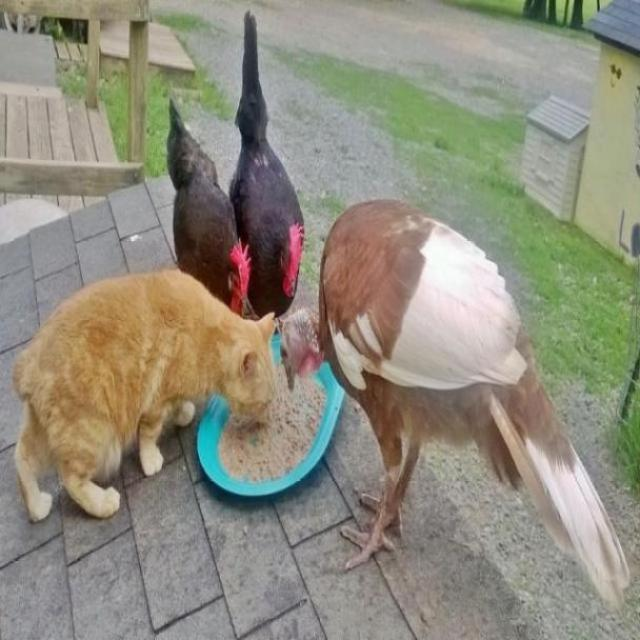Chicken: (227, 1, 305, 330), (167, 90, 254, 318)
